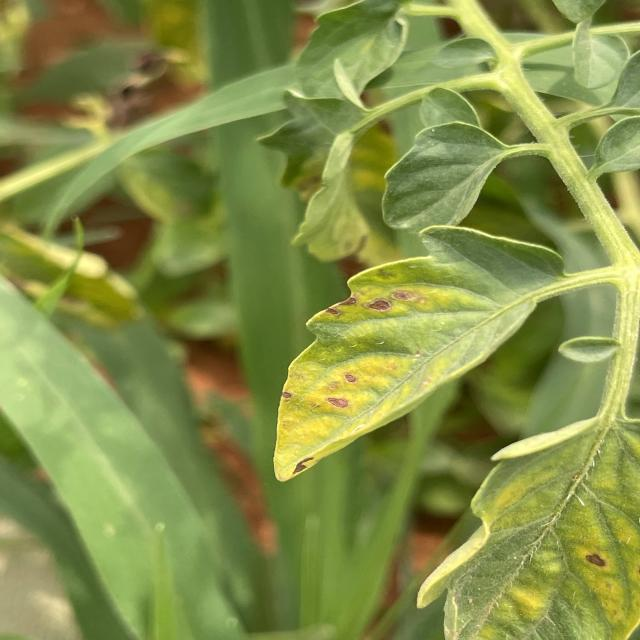tomato_early blight: (274, 225, 564, 480), (420, 419, 640, 640)
tomato_healthy: (382, 124, 502, 237)
